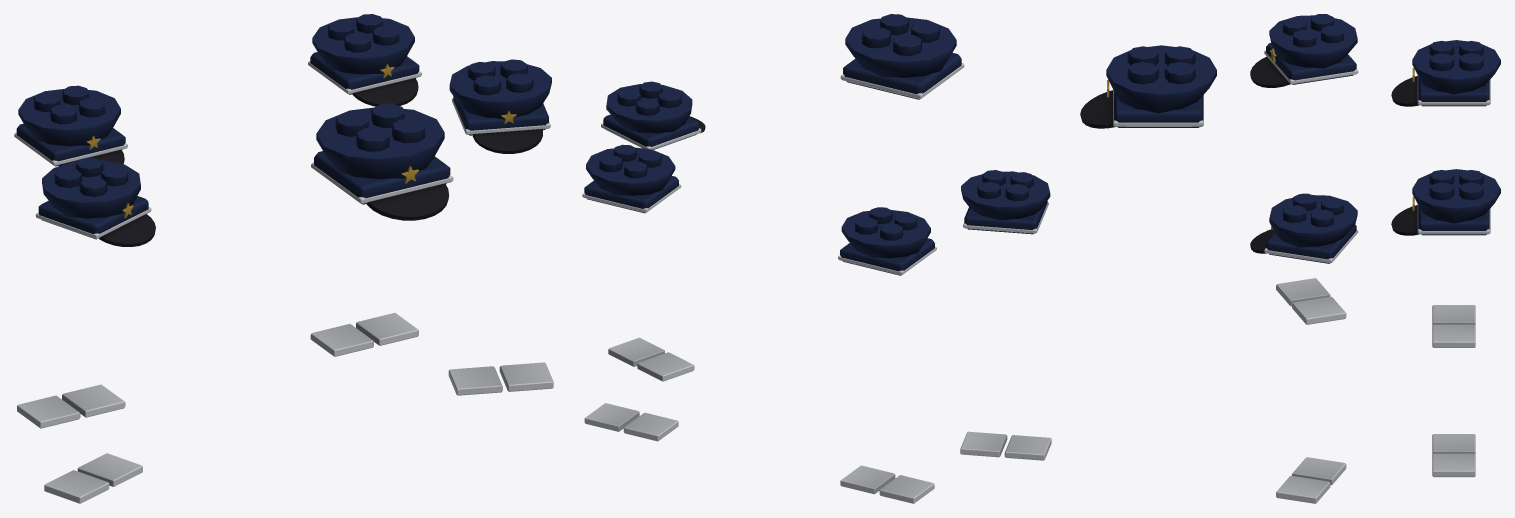
The model's file is bubble-patrol-lod1.glb.
3 renders of one model, left to right at view 1: azimuth 30°, elevation 25°; view 2: azimuth 150°, elevation 25°; view 3: azimuth 270°, elevation 25°, orthographic. The views are drawn at different scales.
Parts seen in each view (by area): view 1: cap_hat, att0_hat, att3_hat, att2_hat, att1_hat, att3_leg_r_trim, att1_leg_r_trim, att0_leg_r_trim, att1_leg_l_trim, att0_leg_l_trim, att2_leg_r_trim, att2_leg_l_trim (+1 smaller); view 2: cap_hat, att2_hat, att1_hat, att0_hat, att3_hat, att2_leg_r_trim, att1_leg_r_trim, att0_leg_r_trim, att1_leg_l_trim, att0_leg_l_trim, att3_leg_r_trim, att3_leg_l_trim (+1 smaller); view 3: cap_hat, att3_hat, att0_hat, att1_hat, att2_hat, att2_leg_l_trim, att3_leg_l_trim, att0_leg_l_trim, att1_leg_l_trim, att2_leg_r_trim, att3_leg_r_trim, att1_leg_r_trim (+1 smaller).
Part boxes in pixels (box(x1,y1,x2,y2)): cap_hat: box(311, 103, 453, 220); att0_hat: box(308, 14, 421, 106); att3_hat: box(35, 157, 155, 246); att2_hat: box(449, 59, 551, 153); att1_hat: box(14, 85, 127, 166); att3_leg_r_trim: box(44, 470, 109, 503); att1_leg_r_trim: box(17, 395, 80, 428); att0_leg_r_trim: box(310, 324, 373, 356); att1_leg_l_trim: box(62, 384, 125, 417); att0_leg_l_trim: box(356, 313, 418, 345); att2_leg_r_trim: box(448, 366, 502, 395); att2_leg_l_trim: box(499, 362, 553, 391); cap_hat: box(840, 14, 964, 99); att2_hat: box(601, 81, 705, 149); att1_hat: box(838, 207, 936, 275); att0_hat: box(582, 144, 681, 213); att3_hat: box(961, 170, 1050, 234); att2_leg_r_trim: box(637, 352, 694, 381); att1_leg_r_trim: box(879, 475, 934, 503); att0_leg_r_trim: box(623, 412, 678, 441); att1_leg_l_trim: box(840, 465, 895, 494); att0_leg_l_trim: box(584, 403, 639, 431); att3_leg_r_trim: box(1004, 435, 1051, 460); att3_leg_l_trim: box(960, 431, 1007, 457); cap_hat: box(1080, 45, 1216, 128); att3_hat: box(1250, 14, 1358, 87); att0_hat: box(1391, 169, 1500, 235); att1_hat: box(1391, 40, 1500, 106); att2_hat: box(1250, 193, 1358, 263); att2_leg_l_trim: box(1276, 475, 1330, 503); att3_leg_l_trim: box(1292, 296, 1346, 324); att0_leg_l_trim: box(1432, 453, 1475, 477); att1_leg_l_trim: box(1432, 324, 1475, 347); att2_leg_r_trim: box(1292, 457, 1346, 485); att3_leg_r_trim: box(1276, 278, 1330, 306); att1_leg_r_trim: box(1432, 305, 1475, 325).
Bounding box in the file's own units: 2.12 × 1.5 × 1.71.
